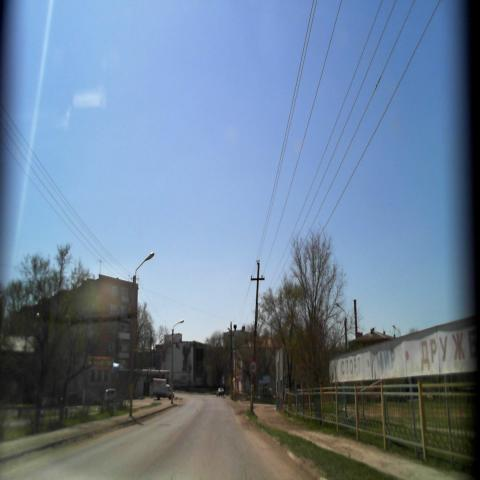3_24: (250, 359, 258, 375)
